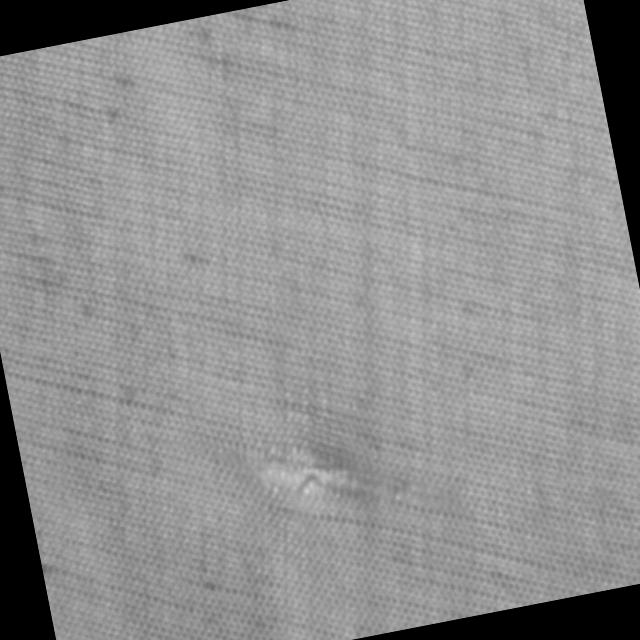thread error: (220, 403, 388, 547)
